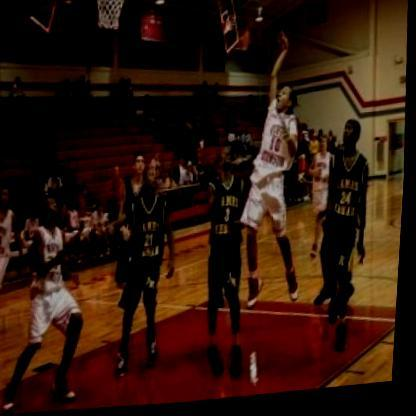basketball: (268, 0, 296, 2)
